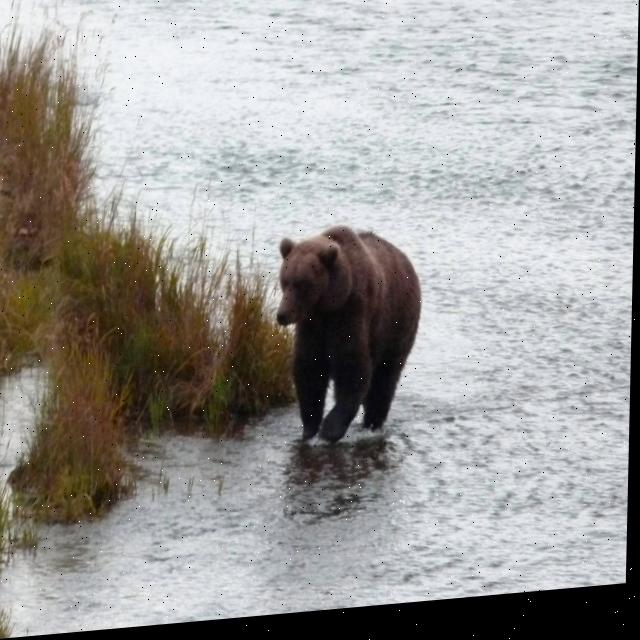bear face: (277, 221, 423, 447)
